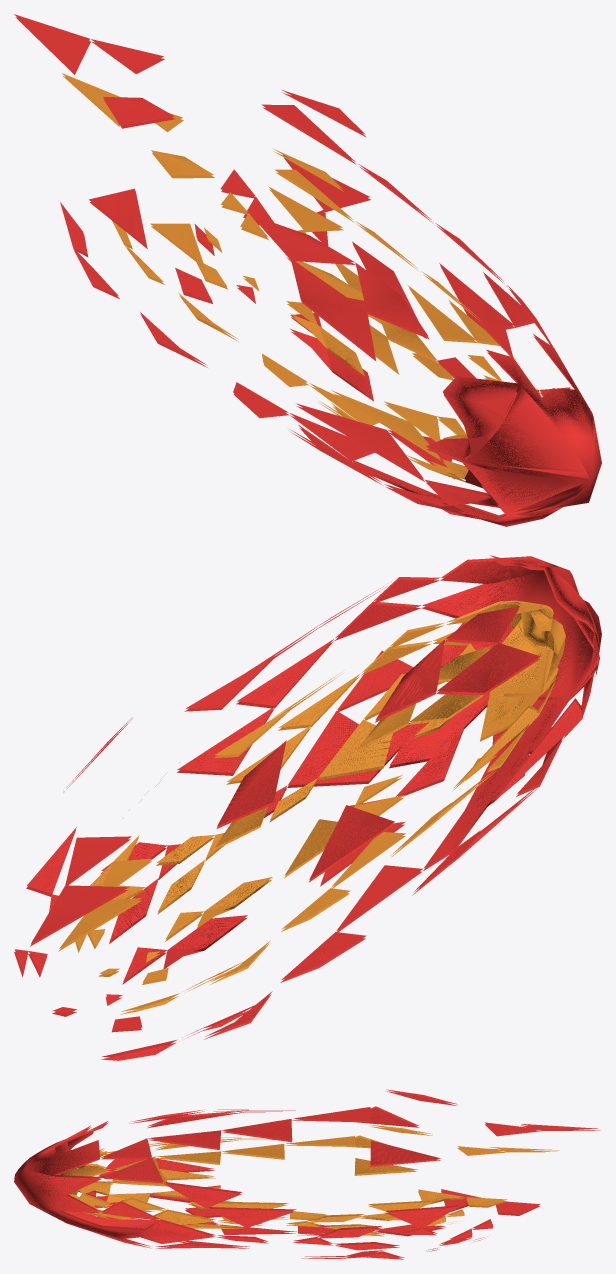
The model's file is fireball.fbx.
3 renders of one model, top to bottom at view 1: azimuth 30°, elevation 25°; view 2: azimuth 150°, elevation 25°; view 3: azimuth 270°, elevation 25°, orthographic. The views are drawn at different scales.
Parts seen in each view (by area): view 1: fire_out, fire_in; view 2: fire_out, fire_in; view 3: fire_out, fire_in.
Part boxes in pixels (box(x1,y1,x2,y2)): fire_out: box(14, 14, 601, 526); fire_in: box(62, 73, 542, 483); fire_out: box(14, 555, 601, 1060); fire_in: box(58, 600, 565, 1014); fire_out: box(14, 1089, 600, 1259); fire_in: box(58, 1124, 559, 1236).
Size of the model in its own units: 181 by 172 by 649.
